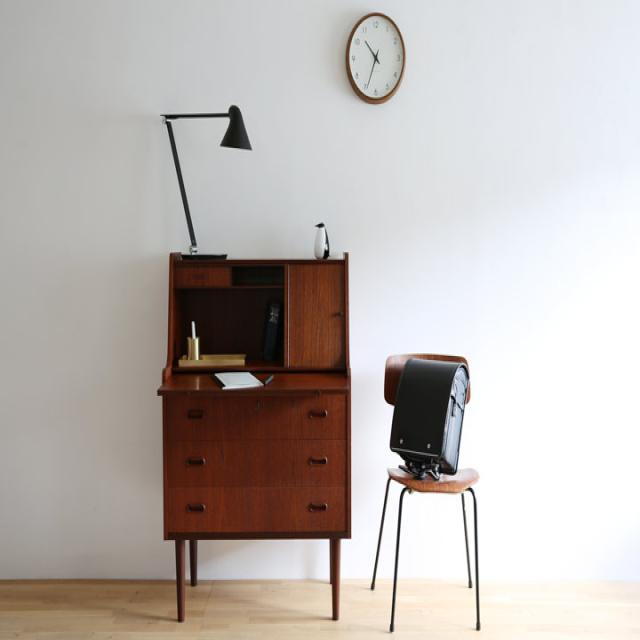vintage chair: (374, 342, 486, 636)
vintage shelf: (157, 244, 353, 625)
